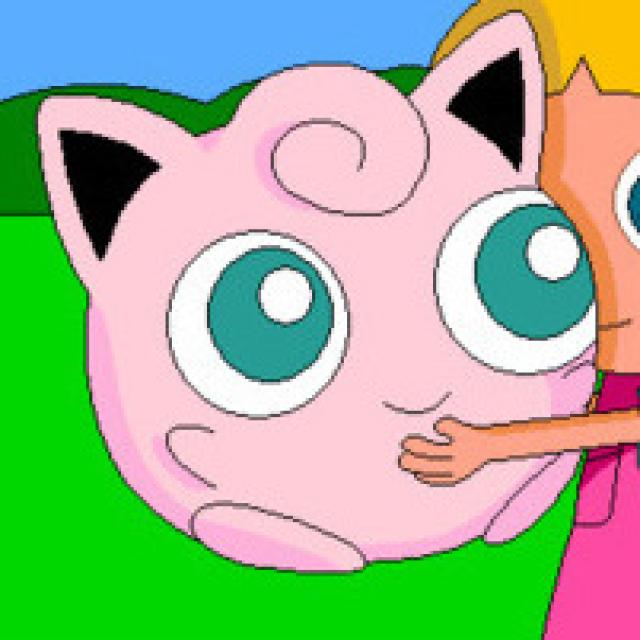Jigglypuff: (42, 70, 594, 552)
